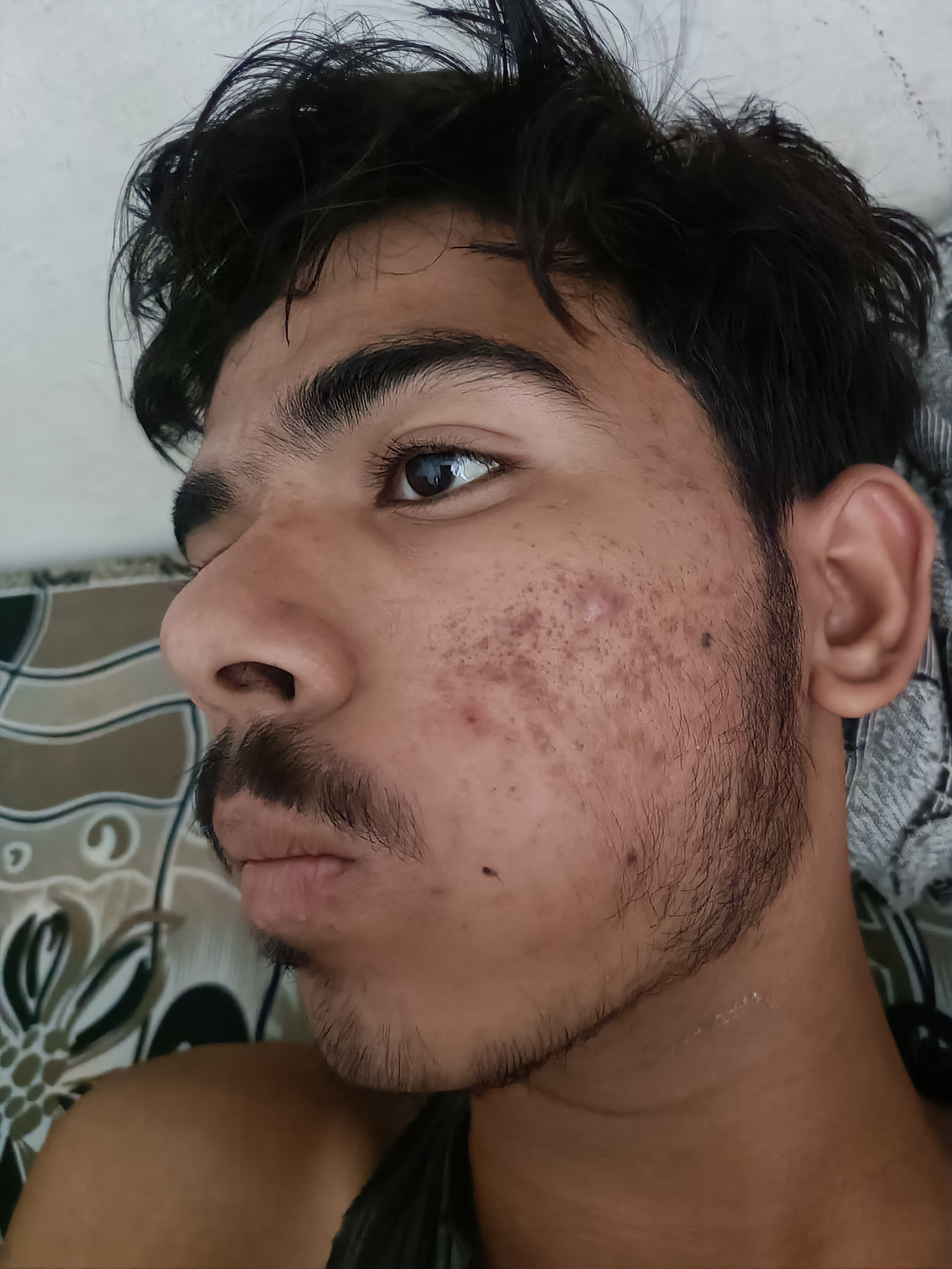closed_comedone: (690, 738, 714, 755)
nodule: (573, 583, 633, 623)
